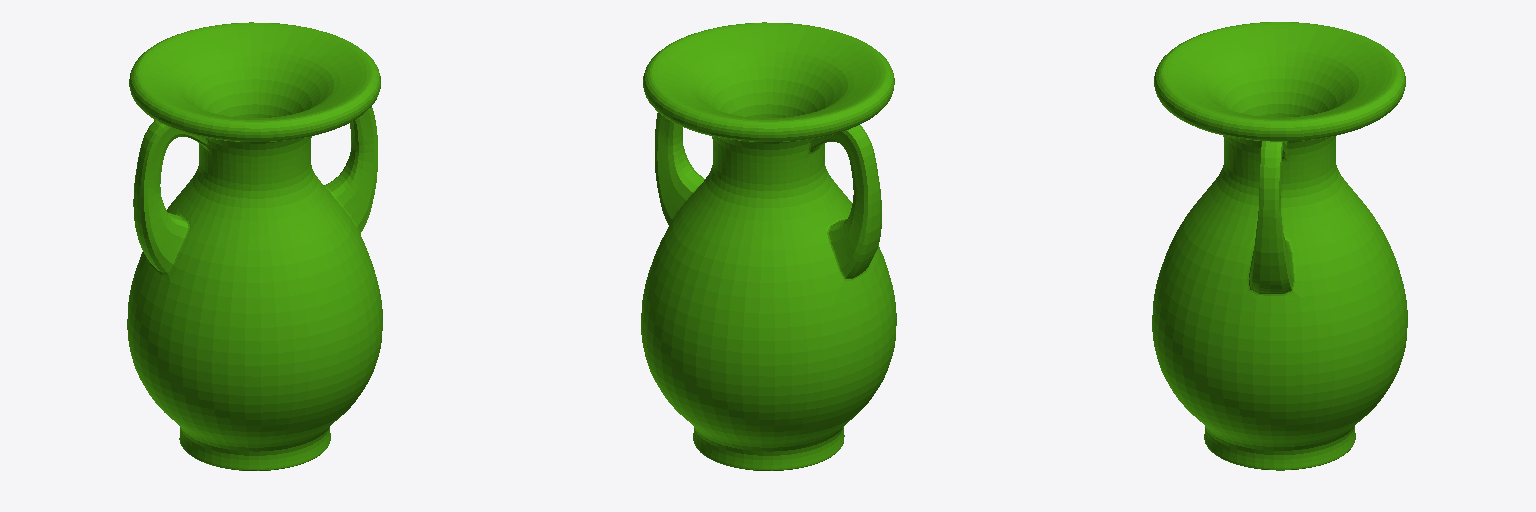
3 views of the same model, side by side, from view 1: azimuth 30°, elevation 25°; view 2: azimuth 150°, elevation 25°; view 3: azimuth 270°, elevation 25° (orthographic).
Parts seen in each view (by area): view 1: Vase_01_LP002; view 2: Vase_01_LP002; view 3: Vase_01_LP002.
Part boxes in pixels (left/top/right/bottom): Vase_01_LP002: left=127, top=22, right=382, bottom=470; Vase_01_LP002: left=641, top=22, right=896, bottom=470; Vase_01_LP002: left=1152, top=22, right=1407, bottom=470.
Bounding box in the file's own units: 6.44 × 9.92 × 6.25.